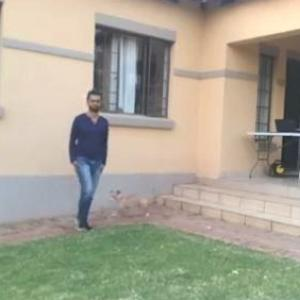follow: (62, 87, 110, 233)
